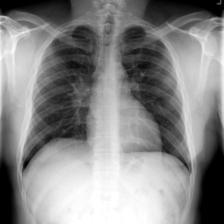normal: (15, 21, 197, 224)
